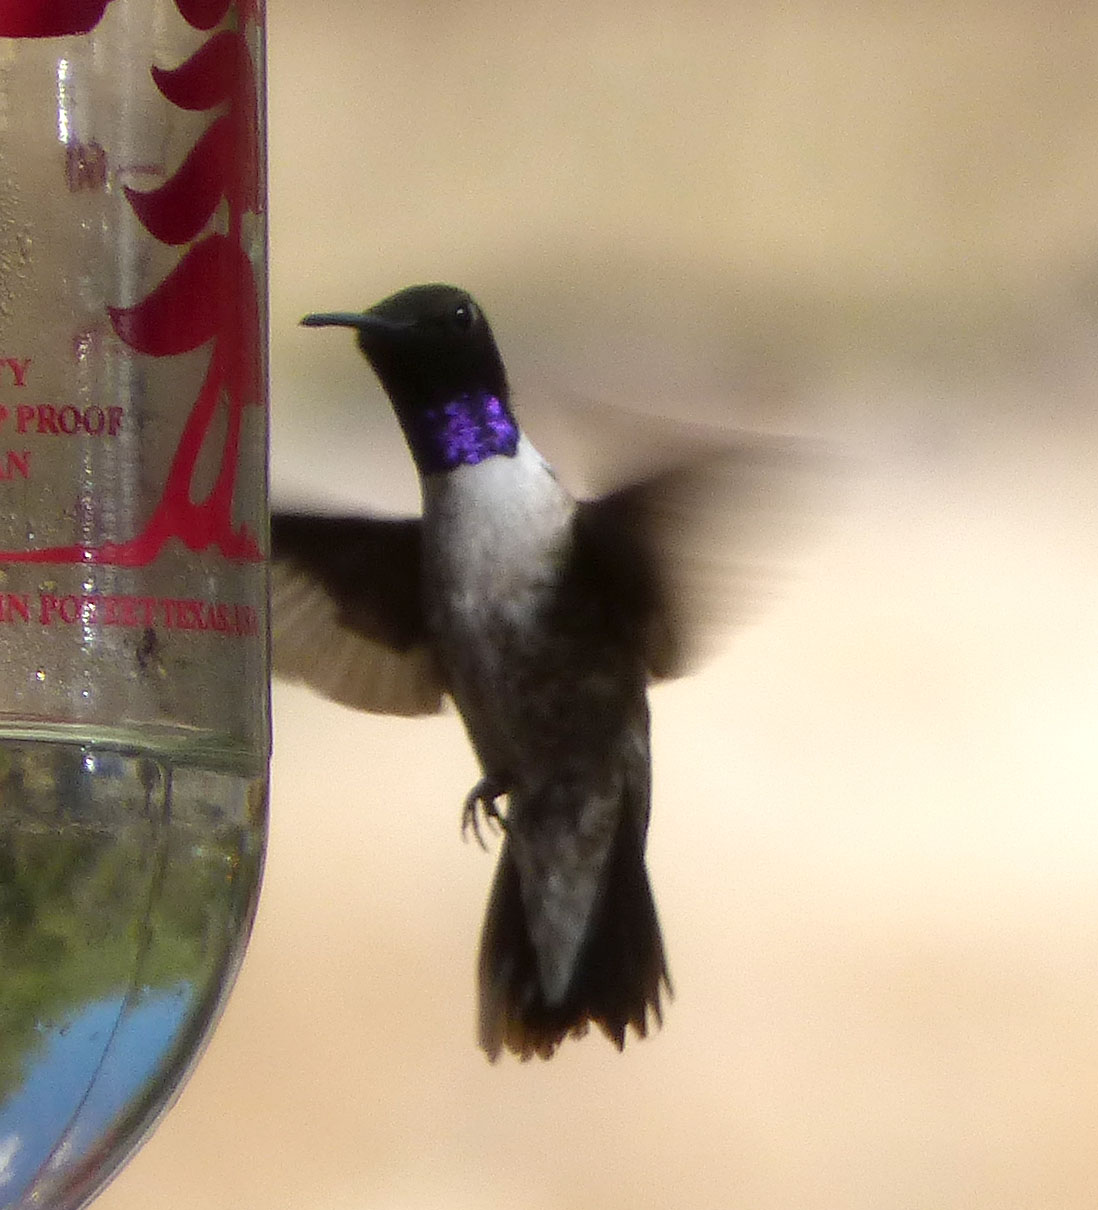archilochus alexandri: (269, 275, 868, 1065)
